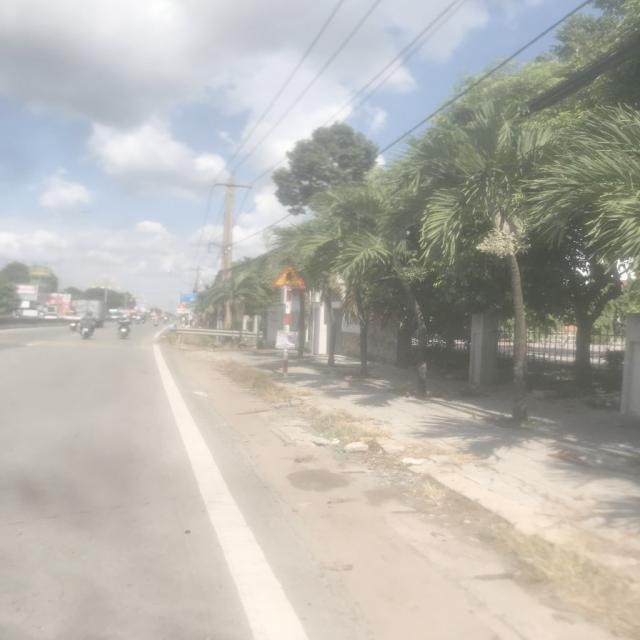giao_nhau_voi_duong_khong_uu_tien: (270, 265, 308, 290)
